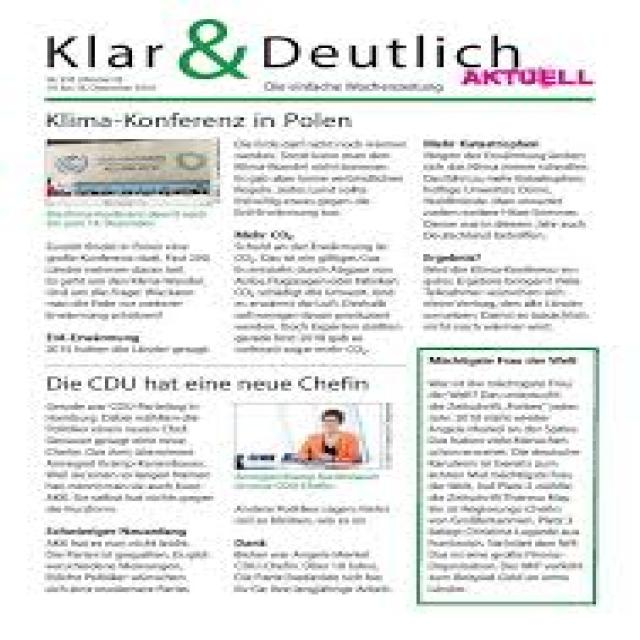paper: (22, 11, 640, 627)
